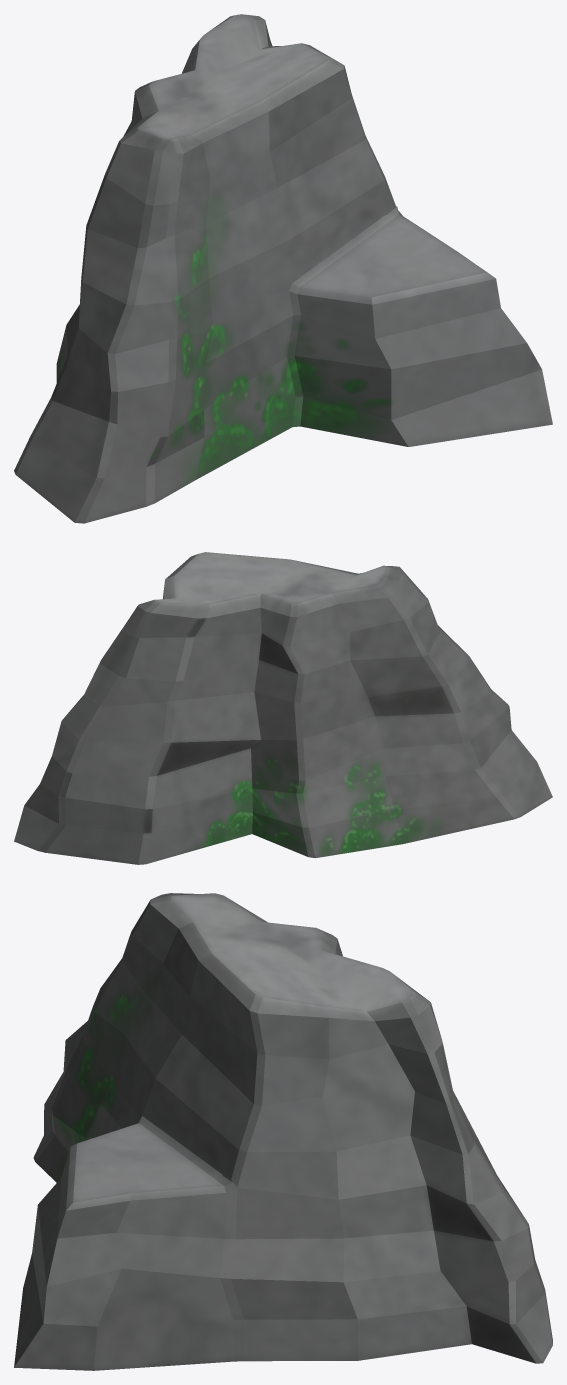
File: batu 9.fbx
The picture shows the model from 3 angles, top to bottom: view 1: azimuth 30°, elevation 25°; view 2: azimuth 150°, elevation 25°; view 3: azimuth 270°, elevation 25°; orthographic projection. The views are drawn at different scales.
Parts seen in each view (by area): view 1: batu9; view 2: batu9; view 3: batu9.
Boxes of the visible parts, x1=… form: batu9: x1=14, y1=14, x2=552, y2=523; batu9: x1=14, y1=552, x2=552, y2=864; batu9: x1=14, y1=893, x2=552, y2=1370.
Size of the model in its own units: 399 by 249 by 379.
Materials: 1 (1 with a texture image).
